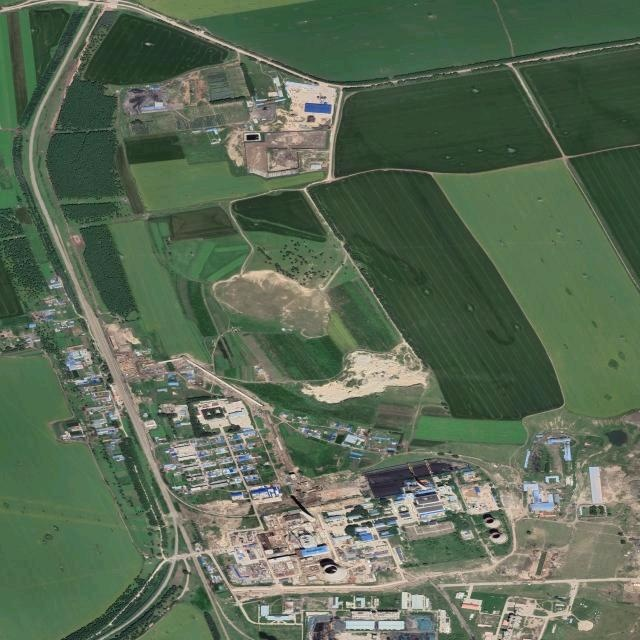coal_fired_power_plant: (280, 454, 511, 583)
